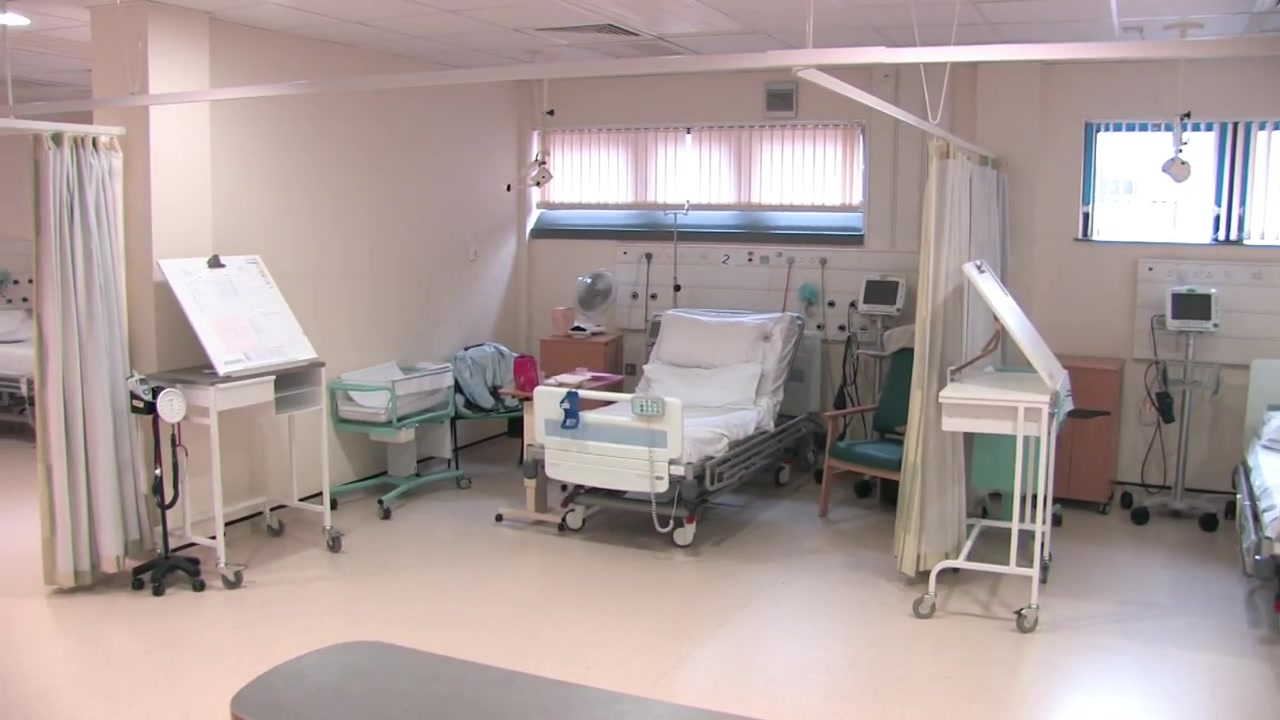bedrail: (706, 413, 807, 493), (1231, 463, 1260, 576)
bedside_monitor: (1166, 285, 1218, 333), (859, 277, 905, 317)
bedside_table: (1023, 354, 1126, 514), (539, 330, 623, 395)
chair: (819, 347, 918, 519), (443, 343, 529, 469)
curtain: (30, 131, 160, 591), (893, 135, 1011, 580)
foot_board: (531, 386, 682, 494)
hospital_bed: (531, 308, 805, 545), (1237, 359, 1280, 615), (1, 307, 34, 435)
iv_pole: (661, 195, 691, 306)
overbed_table: (497, 369, 625, 527)
utility_cart: (148, 360, 343, 585), (912, 369, 1060, 634), (327, 364, 465, 521)
